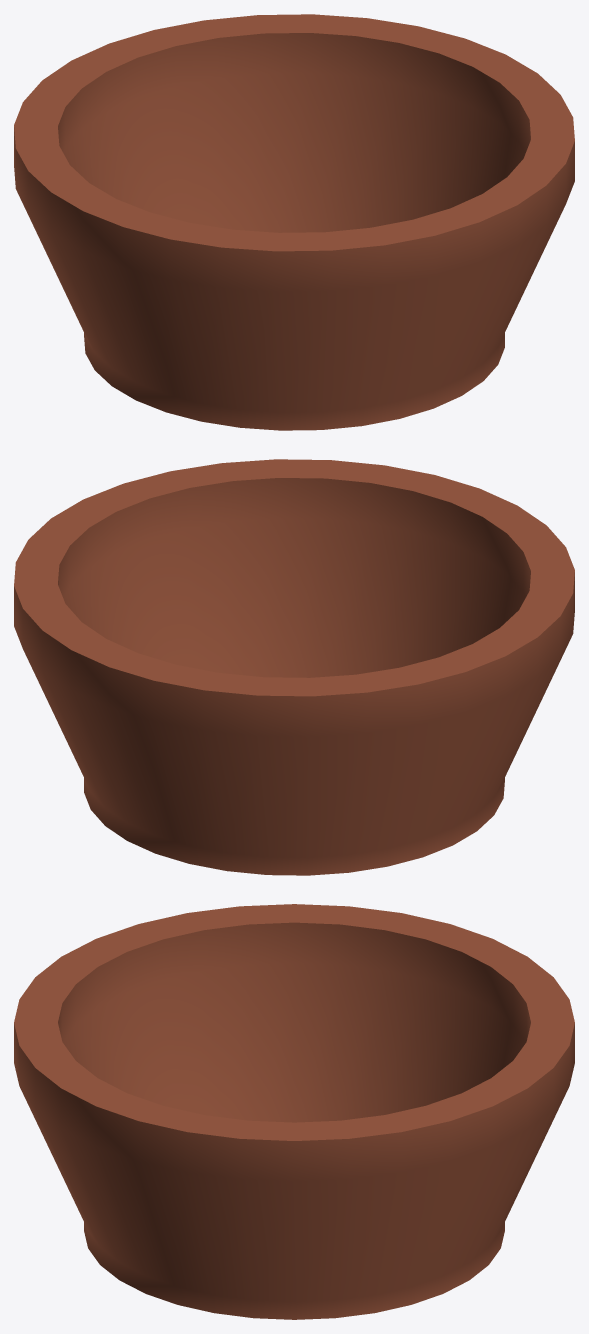
Rendered from basket.fbx.
3 views of the same model, one above another, from view 1: azimuth 30°, elevation 25°; view 2: azimuth 150°, elevation 25°; view 3: azimuth 270°, elevation 25° (orthographic).
Visible parts, largest first — view 1: Circle; view 2: Circle; view 3: Circle.
Part boxes in pixels (x1=…): Circle: x1=14, y1=14, x2=574, y2=430; Circle: x1=14, y1=459, x2=574, y2=875; Circle: x1=14, y1=904, x2=574, y2=1319.
Size of the model in its own units: 140 by 57.18 by 140.
